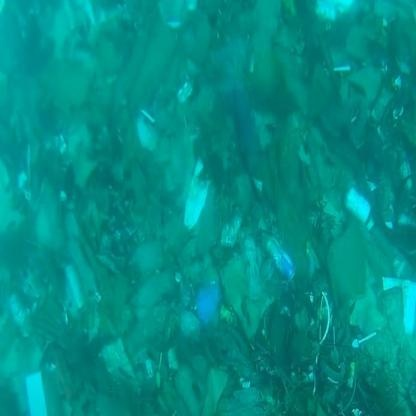can: (339, 174, 376, 220), (268, 238, 303, 285)
